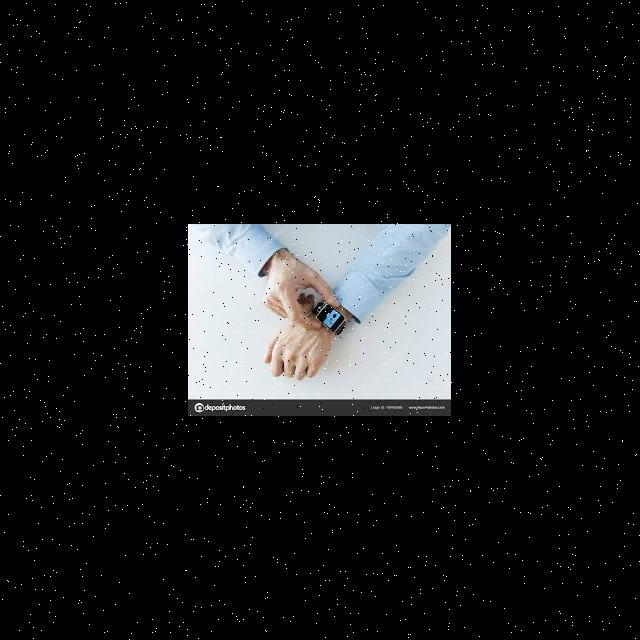watch: (296, 270, 368, 355)
